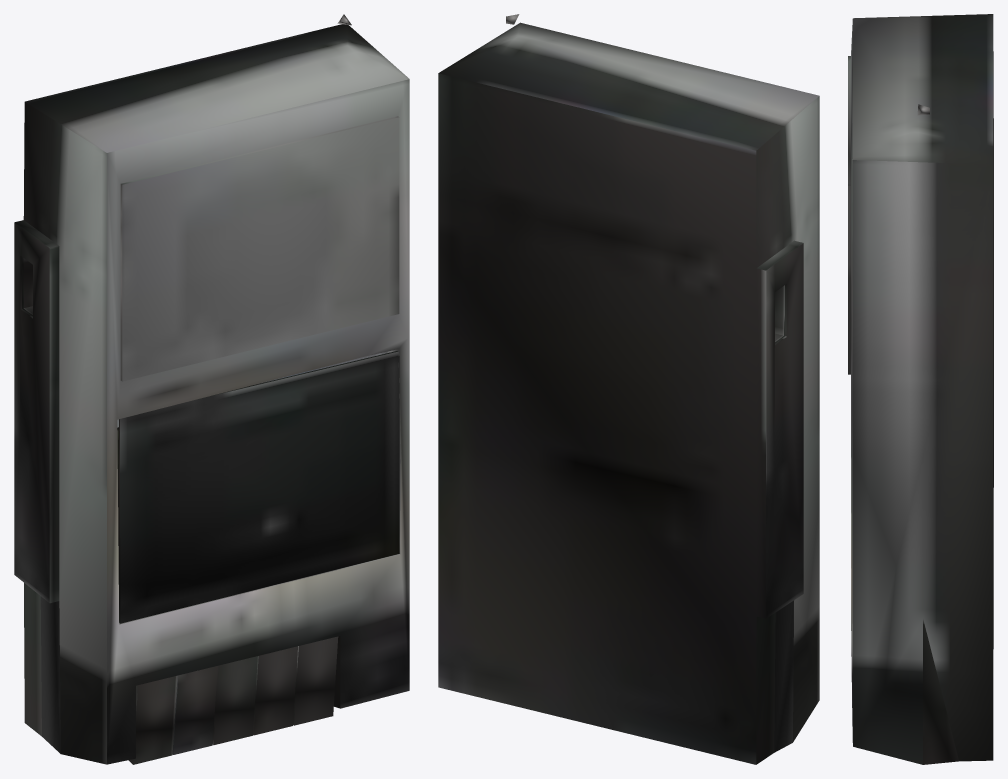
The model's file is design-cassette-player.glb.
3 renders of one model, left to right at view 1: azimuth 30°, elevation 25°; view 2: azimuth 150°, elevation 25°; view 3: azimuth 270°, elevation 25°, orthographic. The views are drawn at different scales.
Visible parts, largest first — view 1: cassette_player_body; view 2: cassette_player_body; view 3: cassette_player_body.
Boxes of the visible parts, <box> form: cassette_player_body: <box>14,14,409,764</box>; cassette_player_body: <box>438,14,819,764</box>; cassette_player_body: <box>848,14,993,764</box>.
Bounding box in the file's own units: 0.1233 × 0.2352 × 0.0484.
Materials: 3 (3 with a texture image).
